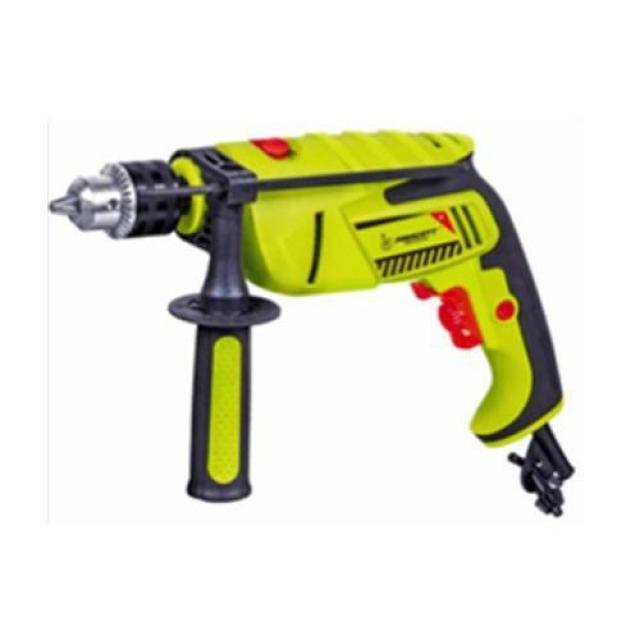drill: (49, 129, 574, 516)
